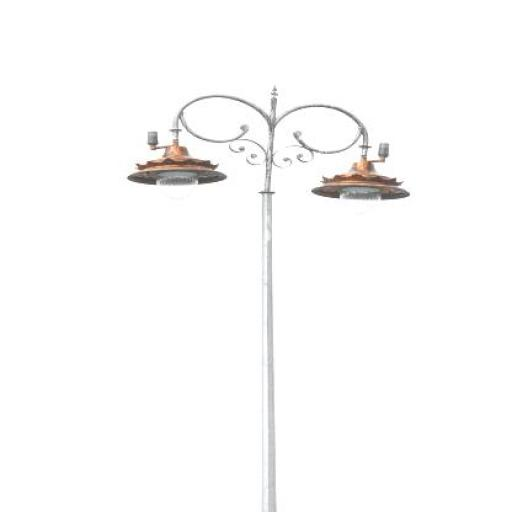street light: (126, 86, 411, 511)
